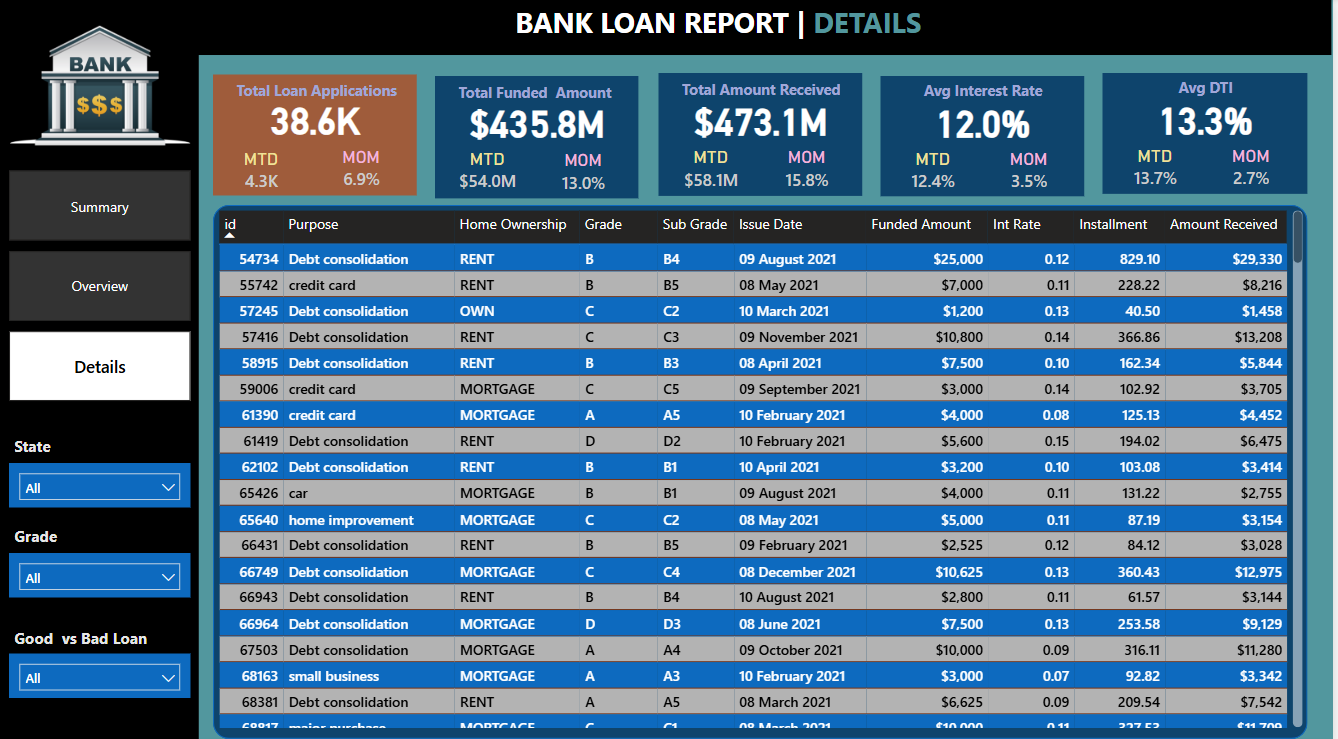

What the dashboard file says about the page in this screenshot:
{"tool":"powerbi","page":{"name":"Details","canvas":[1280,720],"ordinal":2},"visuals":[{"type":"shape","box":[633.7,71.9,195.3,117.8],"z":0,"group":"g3"},{"type":"shape","box":[207.4,72.7,195.3,116.3],"z":0,"group":"g1"},{"type":"shape","box":[1059.9,73.2,196.4,115.9],"z":0,"group":"g5"},{"type":"shape","box":[420.6,74.2,195,117.4],"z":0,"group":"g2"},{"type":"shape","box":[846.8,75,195.3,115.6],"z":0,"group":"g4"},{"type":"shape","box":[207.4,198.4,1049.3,511.8],"z":0},{"type":"shape","box":[0,0,1279.4,54.8],"z":1000},{"type":"card","fields":{"Values":["bank_loan_data.Total Amount Received"]},"box":[633.7,85.6,195.3,58],"z":1000,"group":"g3"},{"type":"card","fields":{"Values":["bank_loan_data.Total loan Applications"]},"box":[207.4,86.2,195.3,57.2],"z":1000,"group":"g1"},{"type":"card","fields":{"Values":["bank_loan_data.Avg DTI"]},"box":[1059.9,86.6,196.4,57],"z":1000,"group":"g5"},{"type":"card","fields":{"Values":["bank_loan_data.Total Funded Amount"]},"box":[420.6,87.9,195,57.7],"z":1000,"group":"g2"},{"type":"card","fields":{"Values":["bank_loan_data.Avg Interest Rate"]},"box":[846.8,88.5,195.3,56.9],"z":1000,"group":"g4"},{"type":"shape","box":[1.5,53,192.3,666.3],"z":2000},{"type":"textbox","box":[1061.1,71.2,194.9,34.8],"z":2000,"group":"g5"},{"type":"textbox","box":[650.4,71.9,178.7,32],"z":2000,"group":"g3"},{"type":"textbox","box":[224.1,72.7,178.7,31.6],"z":2000,"group":"g1"},{"type":"textbox","box":[847.9,73.1,193.8,34.7],"z":2000,"group":"g4"},{"type":"textbox","box":[437.2,74.2,178.4,31.9],"z":2000,"group":"g2"},{"type":"textbox","box":[492.1,0,460.3,54.5],"z":3000},{"type":"card","title":"MTD","fields":{"Values":["bank_loan_data.MTD Total Amount Recieved"]},"box":[646.1,141.7,74.2,47.7],"z":3000,"group":"g3"},{"type":"card","title":"MTD","fields":{"Values":["bank_loan_data.MTD Avg DTI"]},"box":[1072.4,141.8,74.6,46.9],"z":3000,"group":"g5"},{"type":"card","title":"MTD","fields":{"Values":["bank_loan_data.MTD Loan Applications"]},"box":[224.1,143.4,57.5,46.7],"z":3000,"group":"g1"},{"type":"card","title":"MTD","fields":{"Values":["bank_loan_data.MTD Avg Int Rate"]},"box":[859.2,143.5,74.2,46.8],"z":3000,"group":"g4"},{"type":"card","title":"MTD","fields":{"Values":["bank_loan_data.MTD Funded Amount"]},"box":[433,143.8,74.1,47.5],"z":3000,"group":"g2"},{"type":"group","id":"g1","title":"Group 1","box":[207.4,72.7,195.3,117],"z":4000},{"type":"card","title":"MOM","fields":{"Values":["bank_loan_data.MOM Loan Application"]},"box":[313.4,141.9,71.2,46.7],"z":4000,"group":"g1"},{"type":"card","title":"MOM","fields":{"Values":["bank_loan_data.MOM Total Amount Recieved"]},"box":[739.7,142.1,71.2,47.3],"z":4000,"group":"g3"},{"type":"card","title":"MOM","fields":{"Values":["bank_loan_data.MOM  Avg DTI"]},"box":[1166.5,142.1,71.6,46.5],"z":4000,"group":"g5"},{"type":"card","title":"MOM","fields":{"Values":["bank_loan_data.MOM Avg Int Rate"]},"box":[952.8,143.9,71.2,46.4],"z":4000,"group":"g4"},{"type":"card","title":"MOM","fields":{"Values":["bank_loan_data.MOM Total Funded Amount"]},"box":[526.4,144.1,71,47.1],"z":4000,"group":"g2"},{"type":"group","id":"g2","title":"Group 1","box":[420.6,74.2,195.3,117],"z":5000},{"type":"group","id":"g3","title":"Group 1","box":[633.7,71.9,195.3,116.6],"z":6000},{"type":"group","id":"g4","title":"Group 1","box":[846.8,73.1,195.3,117],"z":7000},{"type":"group","id":"g5","title":"Group 1","box":[1059.9,71.2,195.3,116.6],"z":8000},{"type":"slicer","fields":{"Values":["bank_loan_data.address_state"]},"box":[11.6,446.2,174.1,42.4],"z":9000},{"type":"textbox","box":[11.6,414.4,87.8,31.8],"z":10000},{"type":"slicer","fields":{"Values":["bank_loan_data.grade"]},"box":[11.6,532.5,174.1,42.4],"z":11000},{"type":"textbox","box":[11.6,500.7,69.7,53],"z":12000},{"type":"slicer","fields":{"Values":["bank_loan_data.Good vs Bad Loan"]},"box":[11.6,627.9,174.1,42.4],"z":13000},{"type":"textbox","box":[11.6,597.6,156,30.3],"z":14000},{"type":"tableEx","fields":{"Values":["bank_loan_data.id","bank_loan_data.purpose","bank_loan_data.home_ownership","bank_loan_data.grade","bank_loan_data.sub_grade","bank_loan_data.issue_date","bank_loan_data.Total Funded Amount","Sum(bank_loan_data.int_rate)","Sum(bank_loan_data.installment)","bank_loan_data.Total Amount Received"]},"box":[207.4,198.4,1049.3,505.7],"z":16001},{"type":"image","box":[7.6,0,183.2,168.1],"z":16002},{"type":"pageNavigator","box":[12.1,165,174.1,221.1],"z":16003}]}

Visuals, with their boxes in screenshot pixels (x1, y1, x2, y2), scaled from the page's 1280x720 canvas onto the 1338x739 screenshot:
shape: (662,74,867,195)
shape: (217,75,421,194)
shape: (1108,75,1313,194)
shape: (440,76,643,197)
shape: (885,77,1089,196)
shape: (217,204,1314,729)
shape: (0,0,1337,56)
card - bank_loan_data.Total Amount Received: (662,88,867,147)
card - bank_loan_data.Total loan Applications: (217,88,421,147)
card - bank_loan_data.Avg DTI: (1108,89,1313,147)
card - bank_loan_data.Total Funded Amount: (440,90,643,149)
card - bank_loan_data.Avg Interest Rate: (885,91,1089,149)
shape: (2,54,203,738)
textbox: (1109,73,1313,109)
textbox: (680,74,867,107)
textbox: (234,75,421,107)
textbox: (886,75,1089,111)
textbox: (457,76,643,109)
textbox: (514,0,996,56)
"MTD" card: (675,145,753,194)
"MTD" card: (1121,146,1199,194)
"MTD" card: (234,147,294,195)
"MTD" card: (898,147,976,195)
"MTD" card: (453,148,530,196)
"Group 1" group: (217,75,421,195)
"MOM" card: (328,146,402,194)
"MOM" card: (773,146,848,194)
"MOM" card: (1219,146,1294,194)
"MOM" card: (996,148,1070,195)
"MOM" card: (550,148,624,196)
"Group 1" group: (440,76,644,196)
"Group 1" group: (662,74,867,193)
"Group 1" group: (885,75,1089,195)
"Group 1" group: (1108,73,1312,193)
slicer - bank_loan_data.address_state: (12,458,194,501)
textbox: (12,425,104,458)
slicer - bank_loan_data.grade: (12,547,194,590)
textbox: (12,514,85,568)
slicer - bank_loan_data.Good vs Bad Loan: (12,644,194,688)
textbox: (12,613,175,644)
tableEx - bank_loan_data.id x bank_loan_data.purpose: (217,204,1314,723)
image: (8,0,199,173)
pageNavigator: (13,169,195,396)
